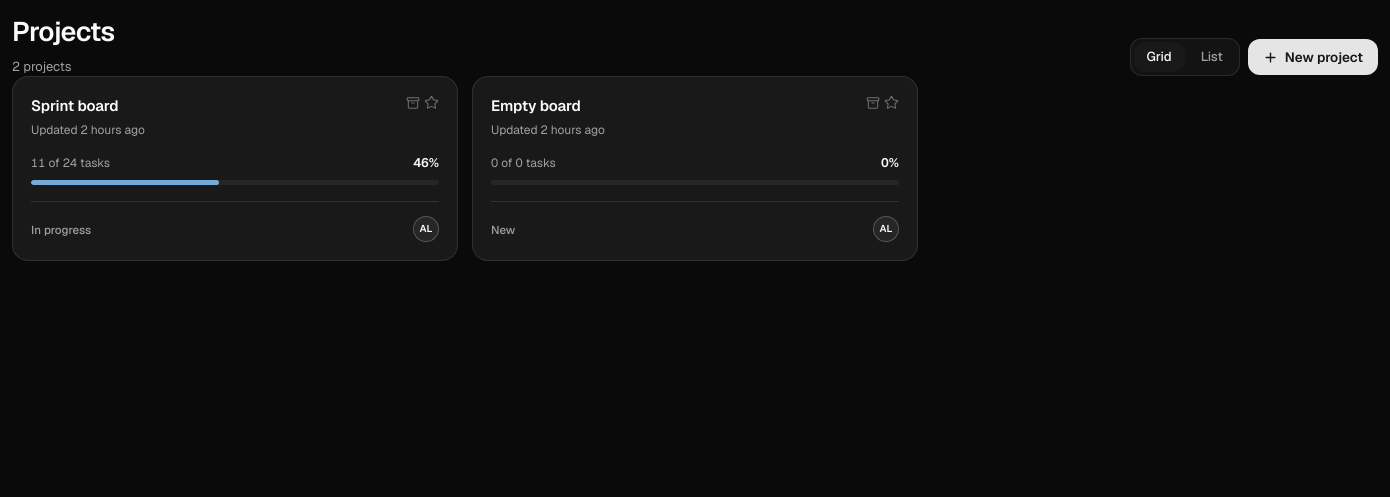
Scenario: ProjectsView › persists only the last intended star when toggled twice quickly
Click the button named "Star project" in the row of "Sprint board".
click(432, 102)  # box [424,95,439,110]
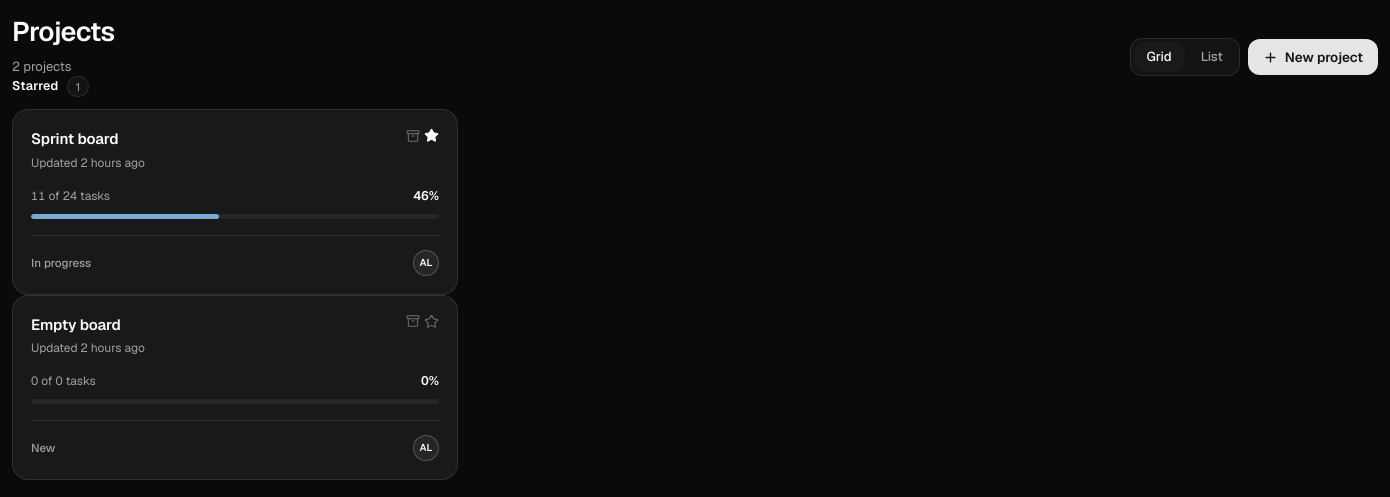
Expected: the heading "Starred" is shown, [12,77,59,96]
Click the button named "Unstar project".
click(432, 136)  # box [424,128,439,143]
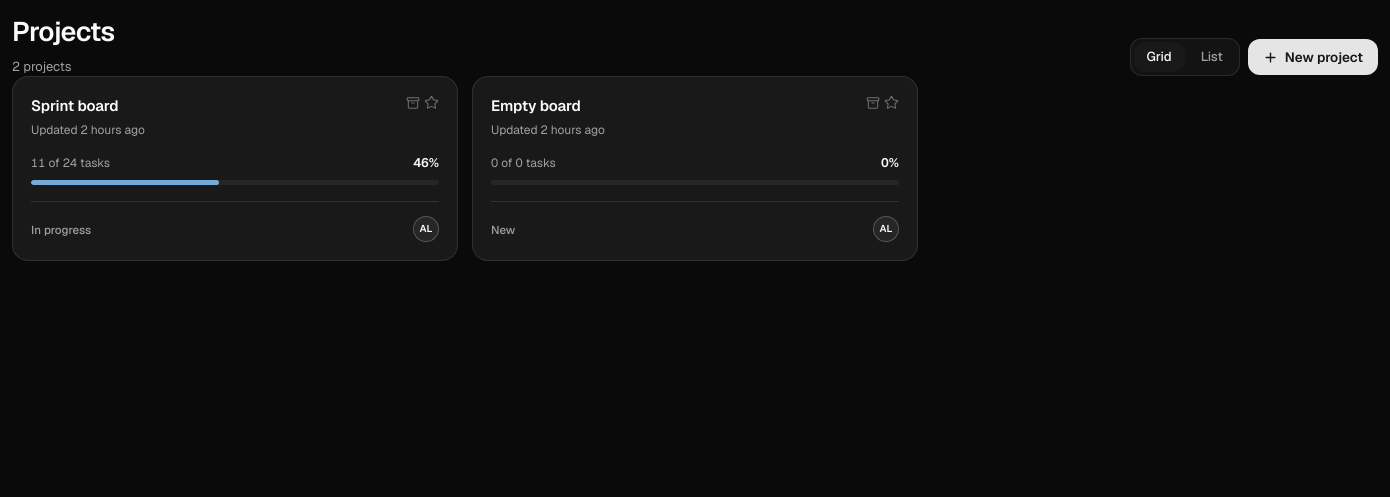
Expected: the heading "Starred" is gone
